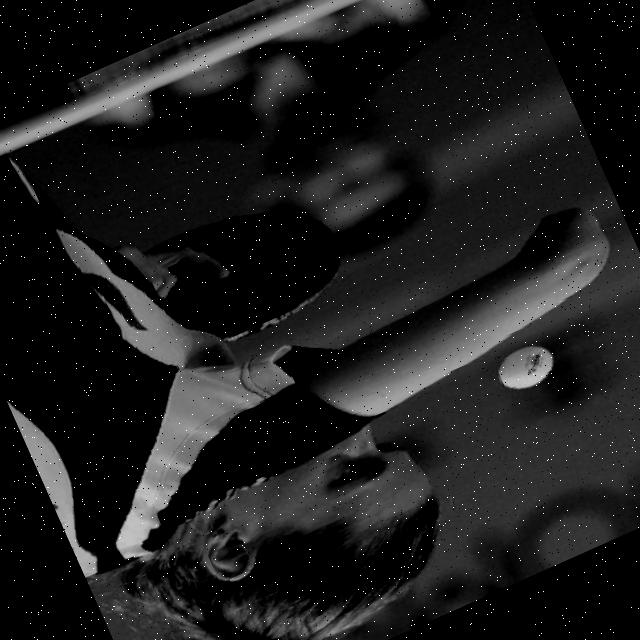ping-pong-ball: (484, 335, 562, 402)
